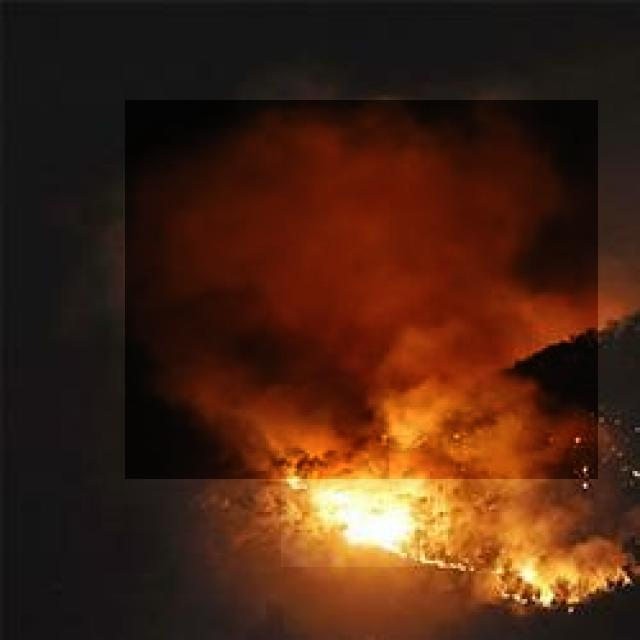Fire: (281, 467, 424, 567)
Smoke: (125, 100, 598, 479)
